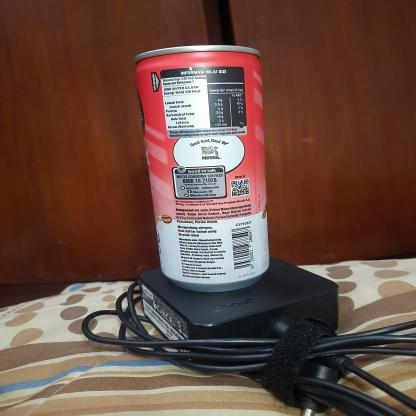mouse: (128, 38, 280, 300)
